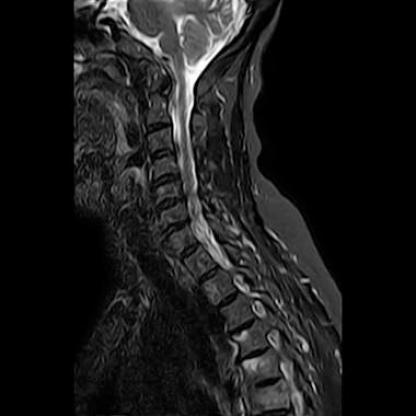Disc Bulgerotation: (153, 195, 187, 213), (148, 173, 183, 189), (160, 222, 190, 237)
